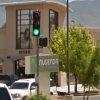Tree: (53, 16, 100, 99)
